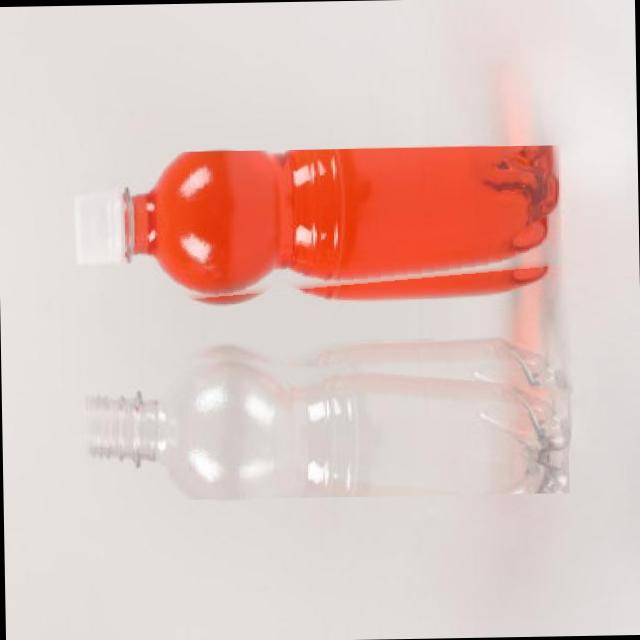plastic bottle: (74, 144, 563, 308), (82, 338, 570, 500)
